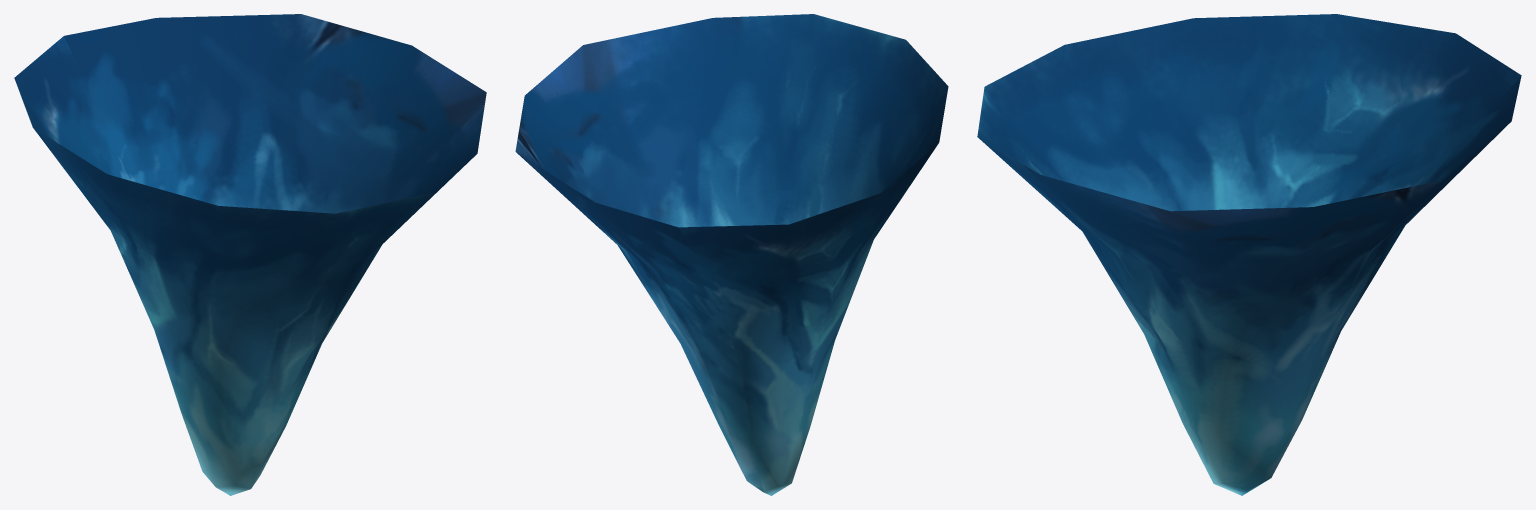
Rendered from BingYingZhong_Bing_4.fbx.
3 renders of one model, left to right at view 1: azimuth 30°, elevation 25°; view 2: azimuth 150°, elevation 25°; view 3: azimuth 270°, elevation 25°, orthographic. The views are drawn at different scales.
Parts seen in each view (by area): view 1: BingYingZhong_Bing_4; view 2: BingYingZhong_Bing_4; view 3: BingYingZhong_Bing_4.
Boxes of the visible parts, x1,y1,x2,y2 form: BingYingZhong_Bing_4: (14, 14, 486, 495); BingYingZhong_Bing_4: (515, 14, 948, 495); BingYingZhong_Bing_4: (977, 14, 1521, 495).
Bounding box in the file's own units: 335 × 317 × 390.
